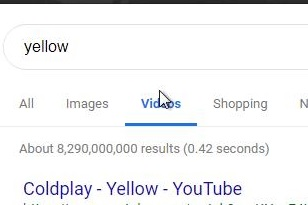cursor: (158, 89, 171, 109)
